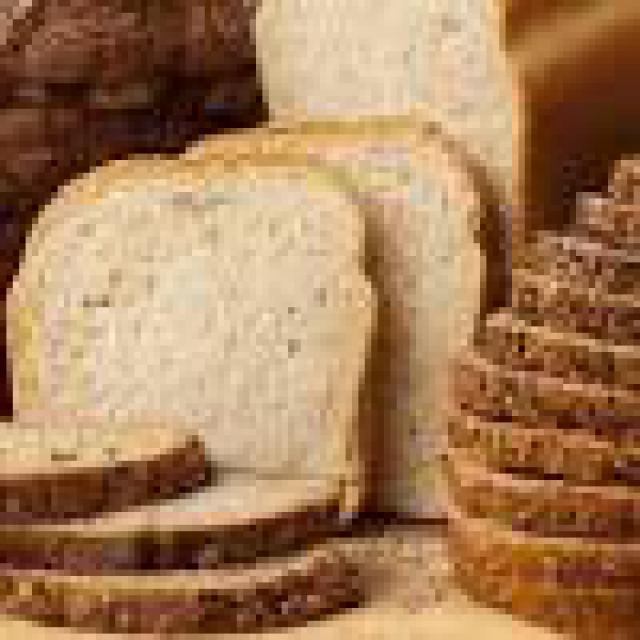Bread: (12, 114, 494, 528)
